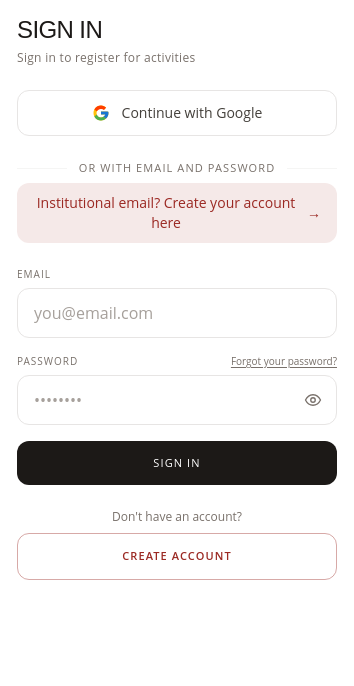
Test: AuthPage — idiomas › /en/login sale traducido
Expected: the heading "Sign in" is shown, [17,16,102,43]
Click the button "Institutional email? Create your account here →" at (177, 212), box [17,182,337,242]
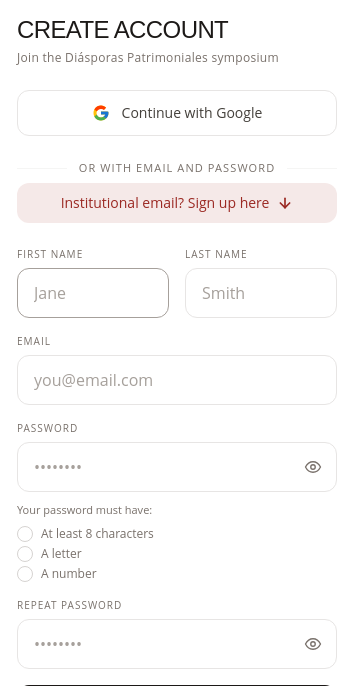
Now the heading "Create account" is shown, box [17,16,228,43]
Now the field labelled "First name" is shown, box [17,268,169,318]
